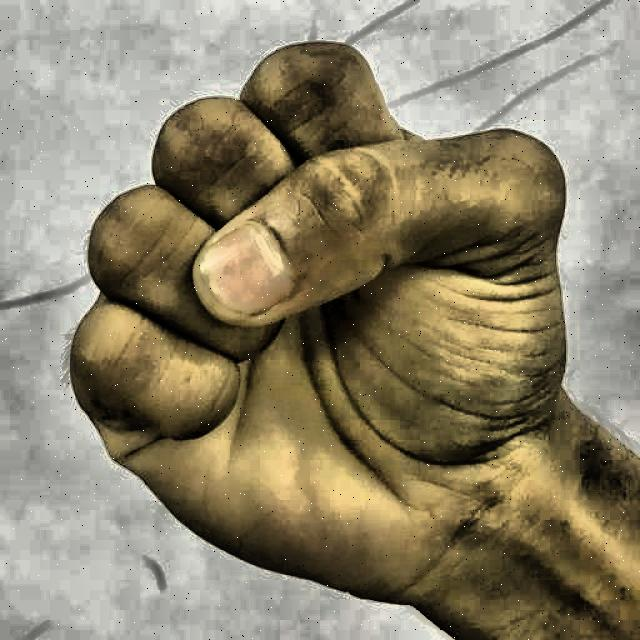Sha: (43, 30, 603, 640)
